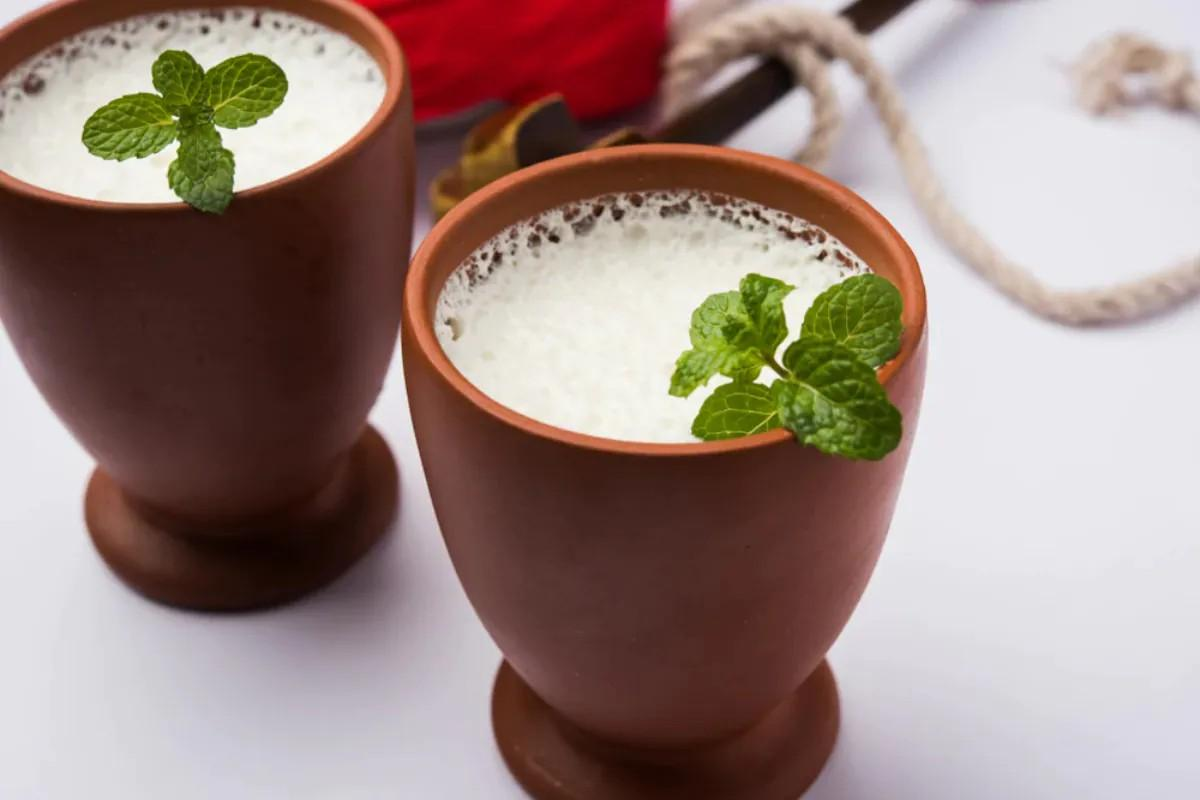Lassi: (435, 190, 868, 443), (0, 8, 385, 203)
